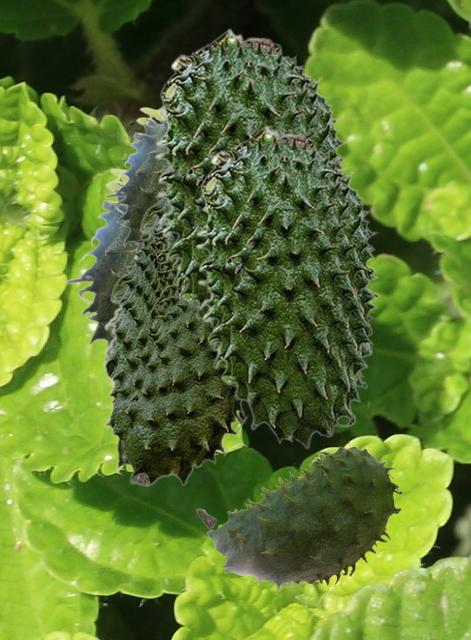guyabano: (154, 27, 350, 354), (195, 124, 380, 448), (102, 221, 250, 486), (196, 446, 401, 593), (65, 167, 136, 370), (104, 106, 167, 250), (131, 184, 169, 257)
